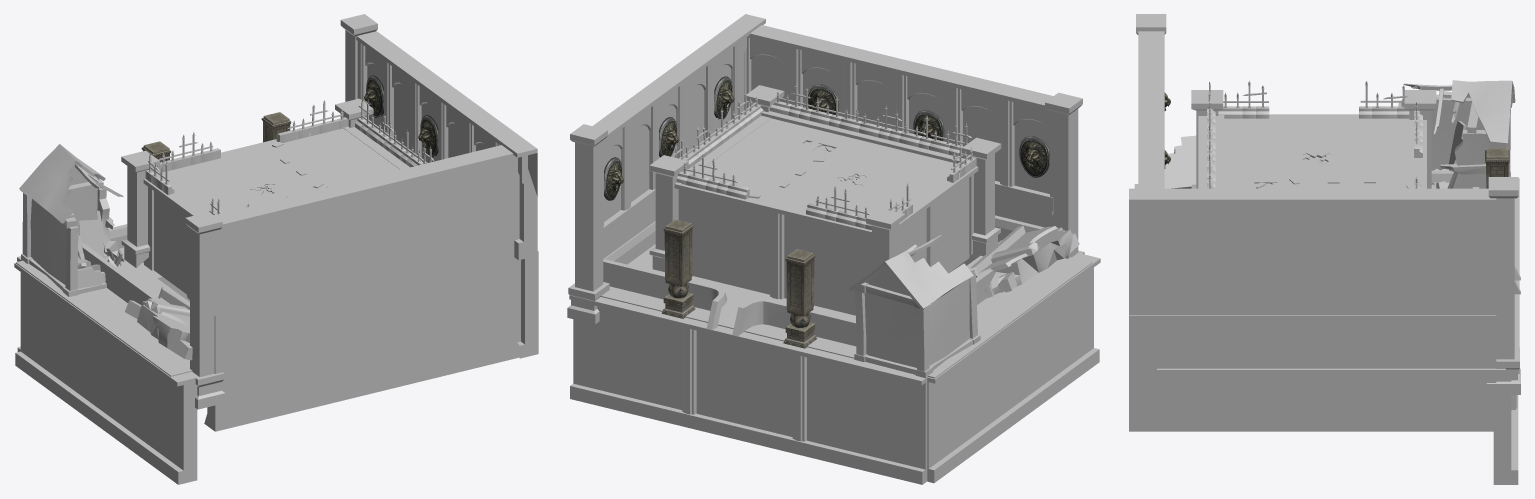
Rendered from Cell2LU.fbx.
The picture shows the model from 3 angles, left to right: view 1: azimuth 30°, elevation 25°; view 2: azimuth 150°, elevation 25°; view 3: azimuth 270°, elevation 25°; orthographic projection. The views are drawn at different scales.
Visible parts, largest first — view 1: Cell2LU; view 2: Cell2LU; view 3: Cell2LU.
Boxes of the visible parts, left/top/right/bottom form: Cell2LU: left=14, top=14, right=538, bottom=484; Cell2LU: left=567, top=14, right=1100, bottom=484; Cell2LU: left=1129, top=14, right=1520, bottom=484.
Size of the model in its own units: 31.6 by 22.03 by 26.55.
